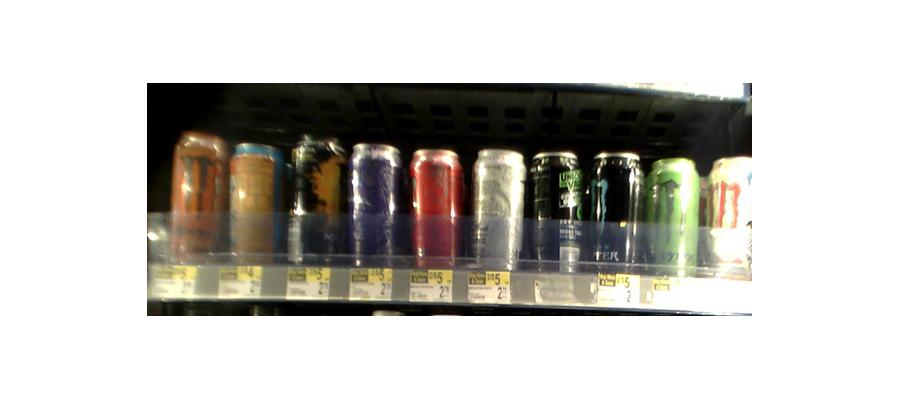bottle: (166, 130, 227, 263), (347, 141, 403, 268), (643, 156, 700, 278), (407, 146, 463, 269), (468, 147, 523, 272), (292, 132, 343, 265), (530, 152, 585, 273), (229, 142, 284, 263), (589, 149, 641, 272), (702, 154, 755, 273)
